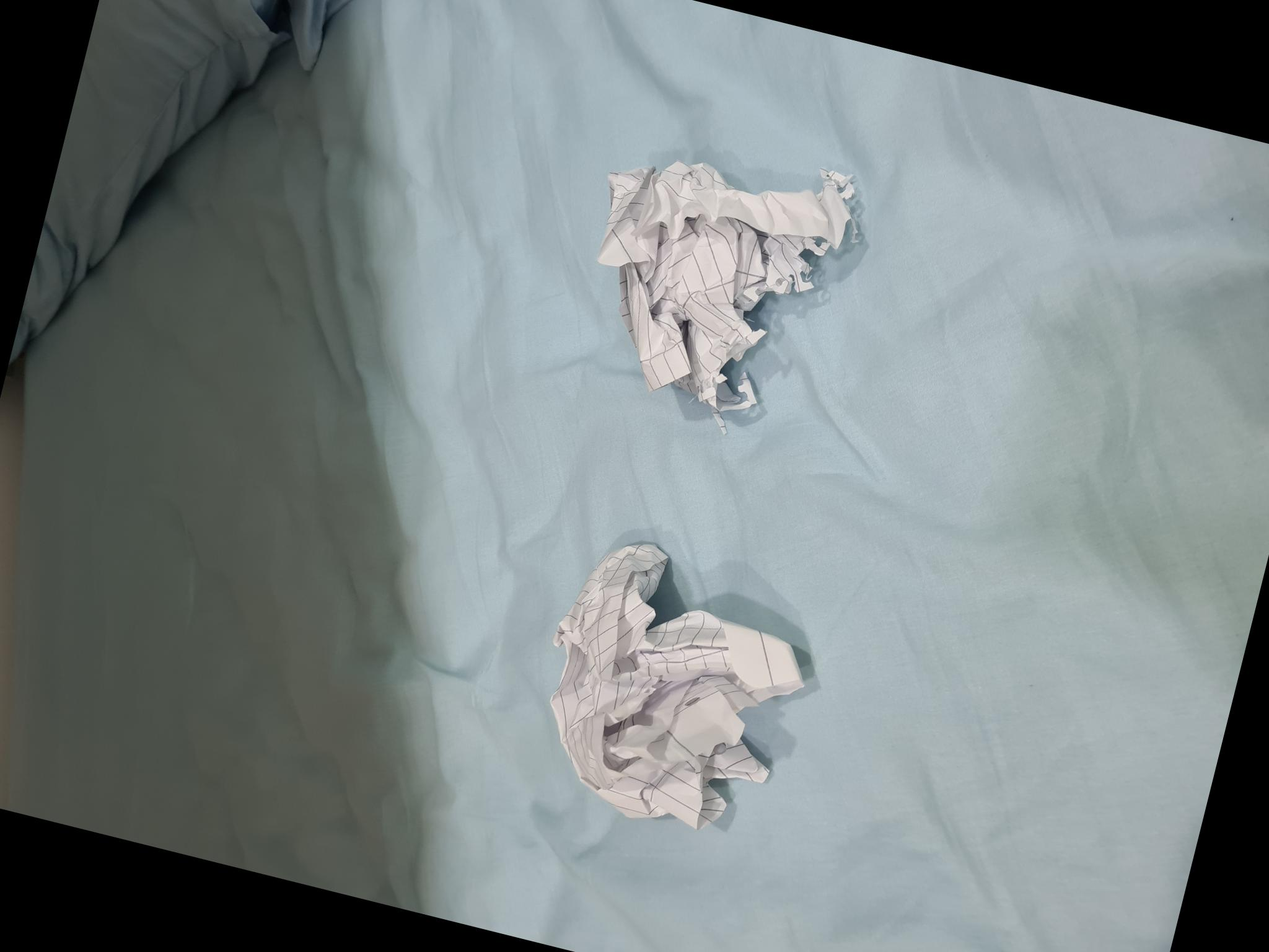Kertas: (90, 508, 374, 761), (509, 555, 756, 810)
